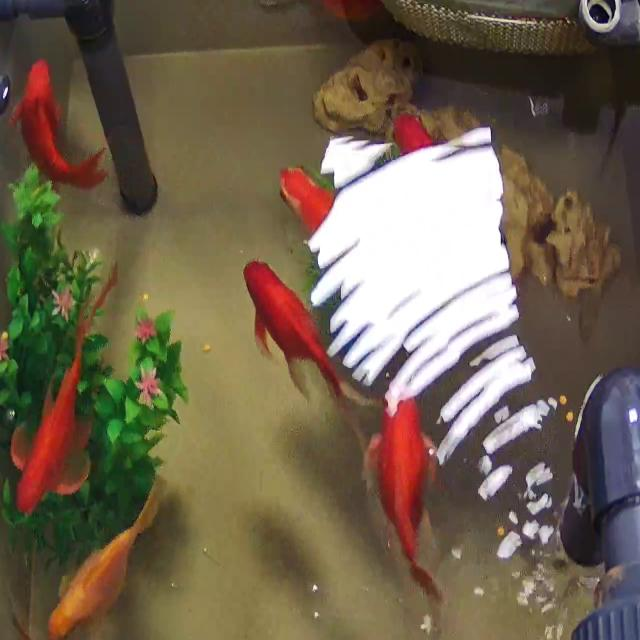fish: (14, 261, 128, 515), (44, 480, 166, 640), (244, 256, 342, 406), (368, 393, 436, 595), (11, 57, 107, 192), (279, 165, 334, 237), (374, 110, 451, 160), (245, 0, 379, 23)
